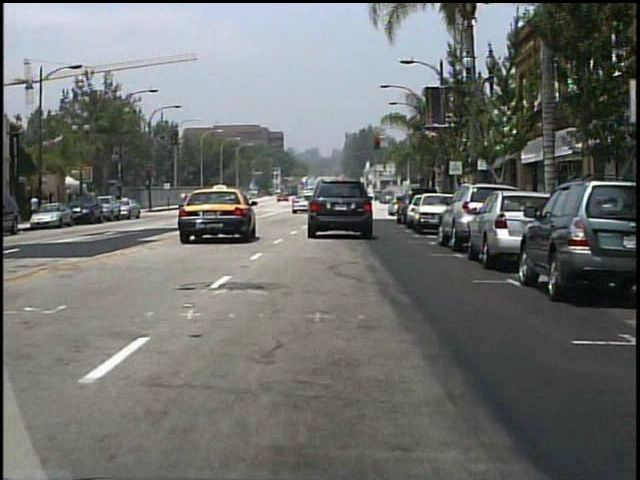person: (31, 192, 42, 223), (238, 189, 251, 212), (329, 190, 342, 213)
